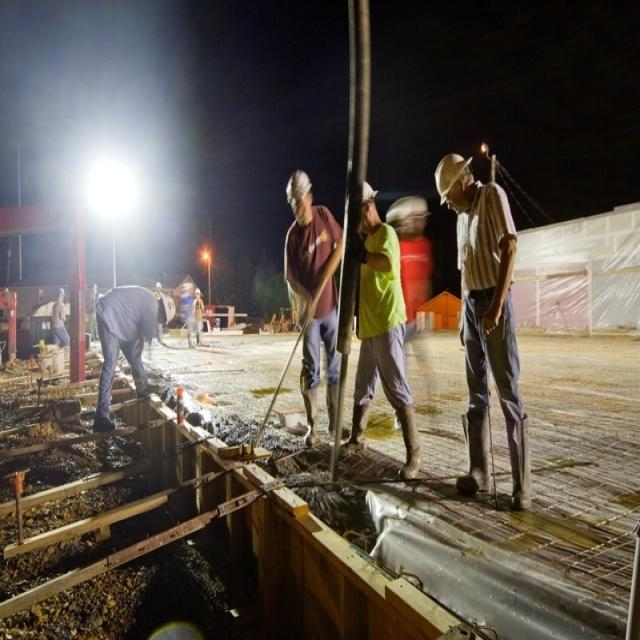helmet: (431, 202, 475, 286), (286, 225, 316, 303), (354, 235, 378, 312), (157, 394, 175, 434), (55, 381, 67, 404), (194, 382, 203, 402), (155, 373, 163, 391)
